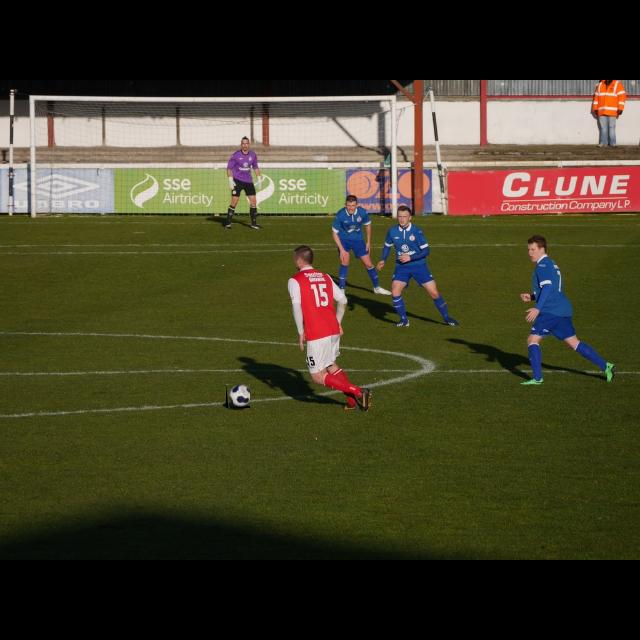Football: (226, 384, 250, 408)
